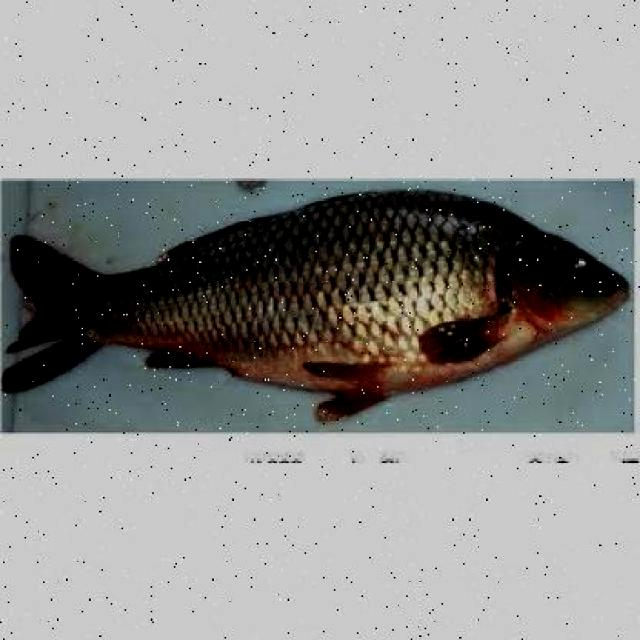ikan-mas: (2, 184, 628, 403)
